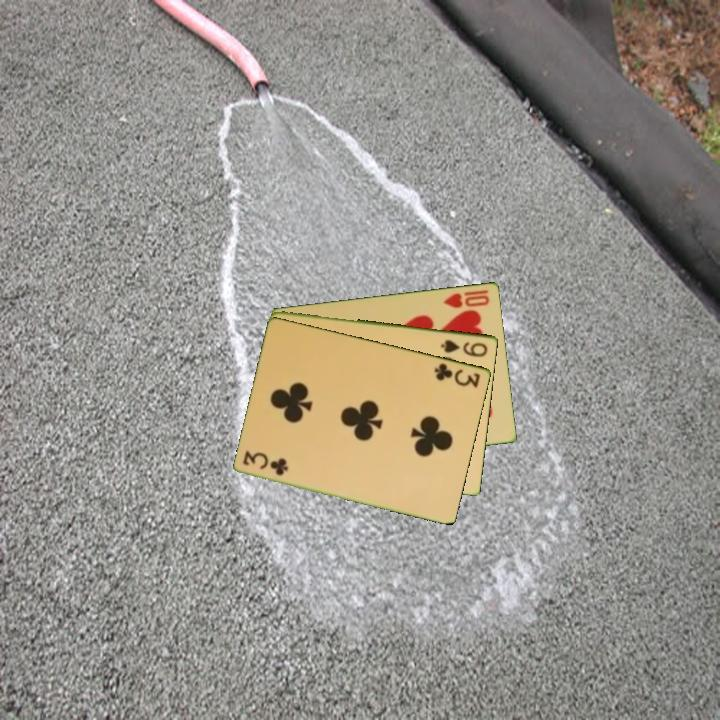10h: (440, 286, 493, 311)
3c: (431, 359, 483, 390), (240, 449, 292, 478)
9s: (438, 336, 491, 360)
